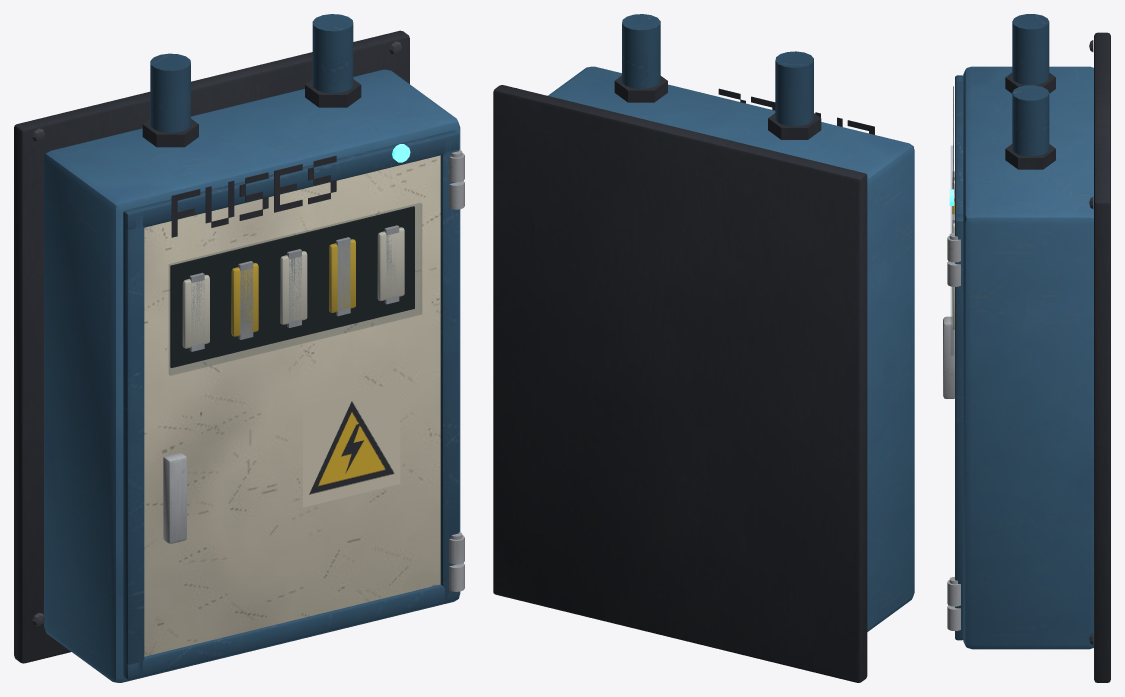
File: fuse_box.glb
3 views of the same model, side by side, from view 1: azimuth 30°, elevation 25°; view 2: azimuth 150°, elevation 25°; view 3: azimuth 270°, elevation 25° (orthographic). The views are drawn at different scales.
Parts seen in each view (by area): view 1: FuseBoxBody; view 2: FuseBoxBody; view 3: FuseBoxBody.
Boxes of the visible parts, box(x1,y1,x2,y2) form: FuseBoxBody: box(14, 14, 464, 682); FuseBoxBody: box(493, 14, 914, 682); FuseBoxBody: box(943, 14, 1110, 682).
Bounding box in the file's own units: 0.48 × 0.708 × 0.199.
Materials: 12 (8 with a texture image).
